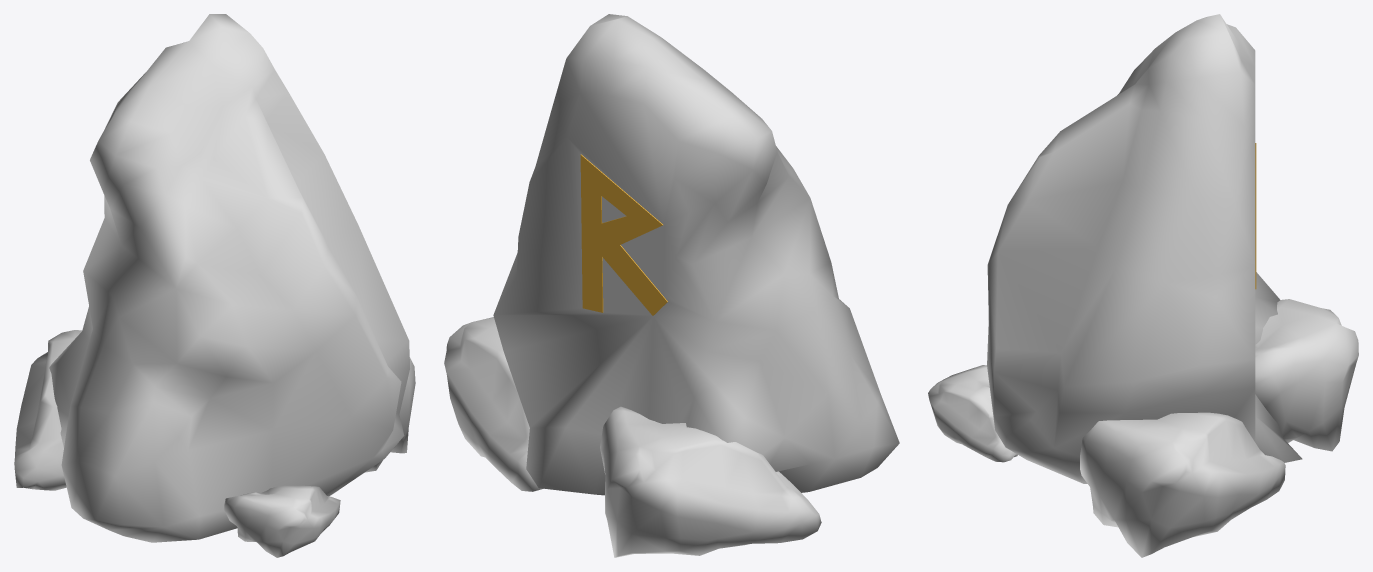
The model's file is Raido.fbx.
3 views of the same model, side by side, from view 1: azimuth 30°, elevation 25°; view 2: azimuth 150°, elevation 25°; view 3: azimuth 270°, elevation 25° (orthographic). The views are drawn at different scales.
Visible parts, largest first — view 1: stone; view 2: stone, Raido; view 3: stone.
Part boxes in pixels (bbox=[...]): stone: bbox=[14, 14, 415, 557]; stone: bbox=[444, 14, 899, 557]; Raido: bbox=[580, 154, 667, 315]; stone: bbox=[928, 14, 1358, 557].
Bounding box in the file's own units: 155 × 181 × 152.
